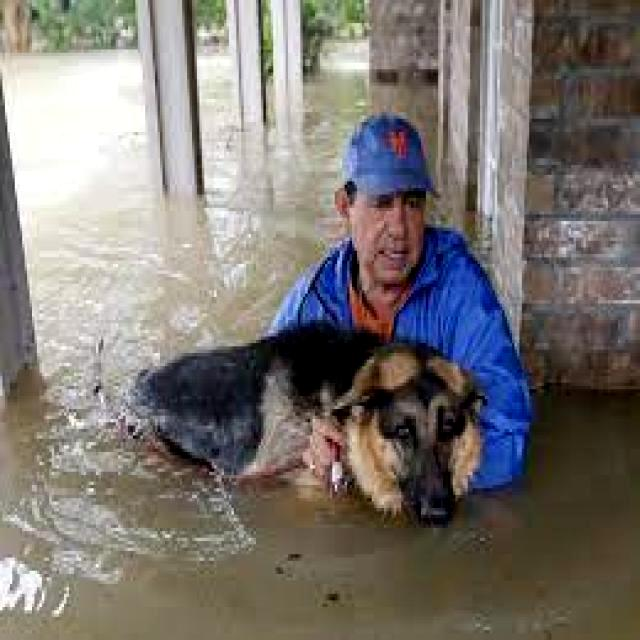civilian: (269, 99, 535, 524)
dog: (111, 320, 488, 526)
